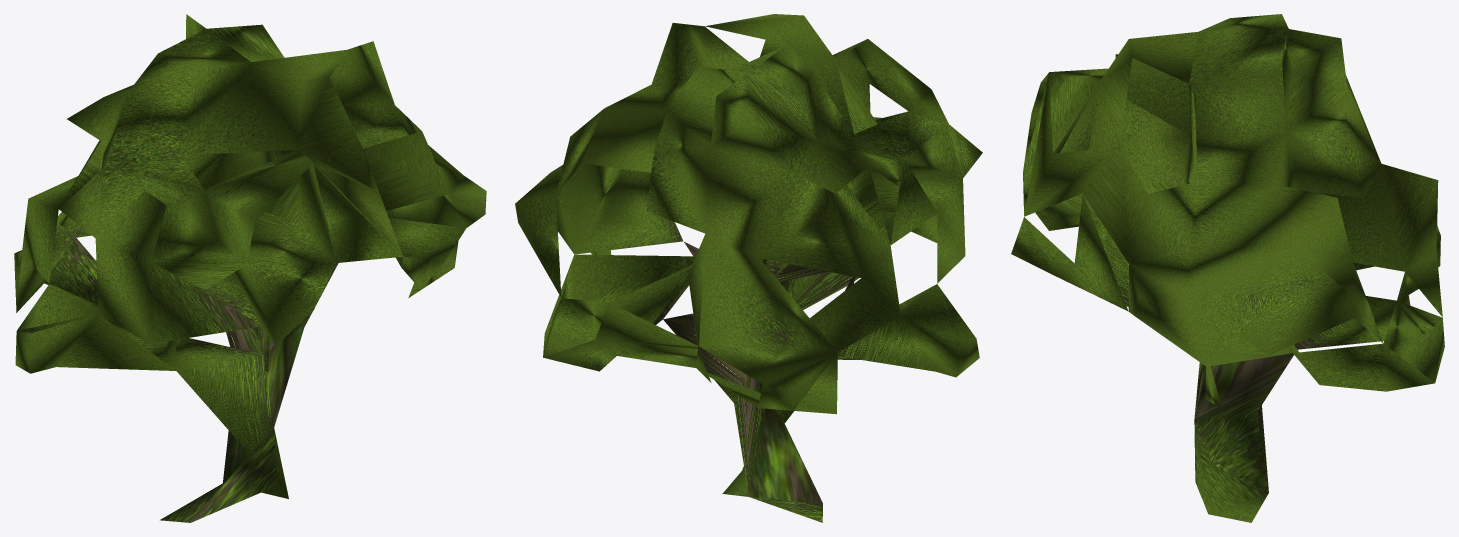
File: oak_tree_low.glb
3 renders of one model, left to right at view 1: azimuth 30°, elevation 25°; view 2: azimuth 150°, elevation 25°; view 3: azimuth 270°, elevation 25°, orthographic. The views are drawn at different scales.
Size of the model in its own units: 13.33 by 14 by 11.57.
1 material, 1 textured.
